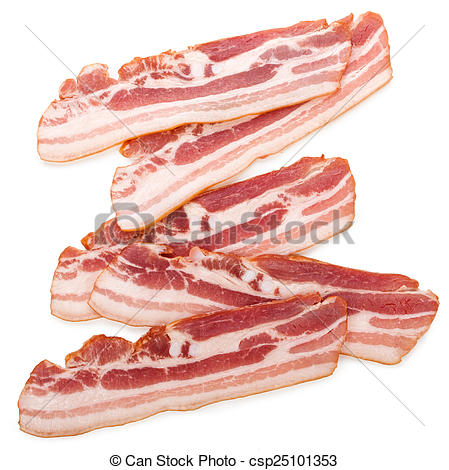bacon: (30, 43, 419, 413)
